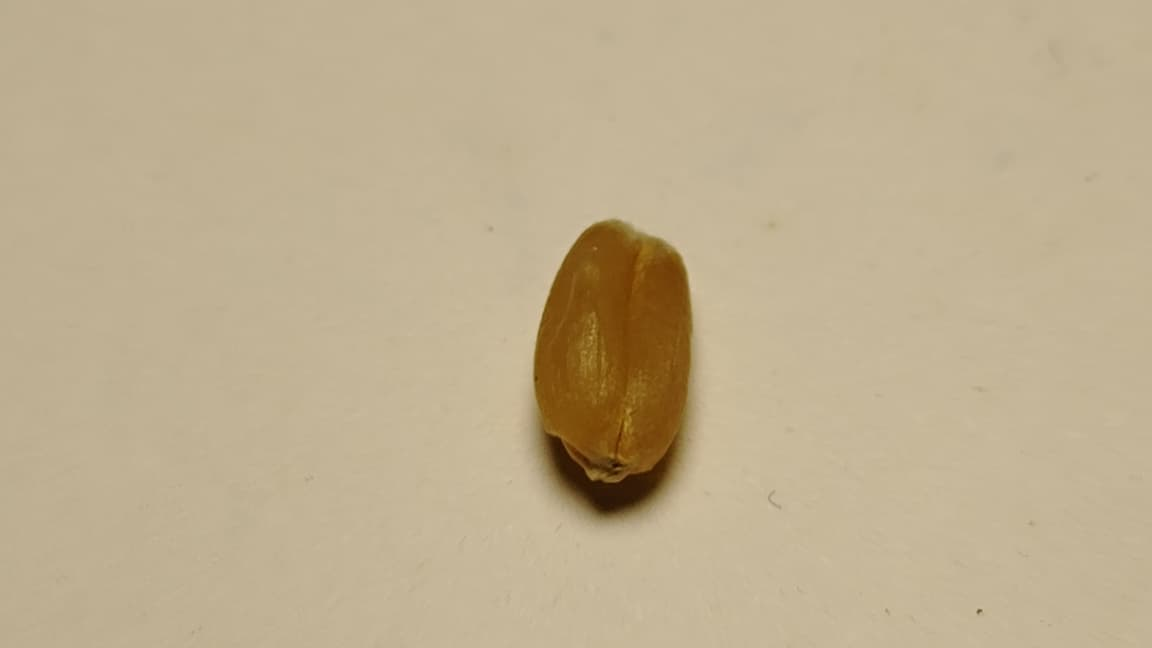healthy: (534, 218, 691, 481)
